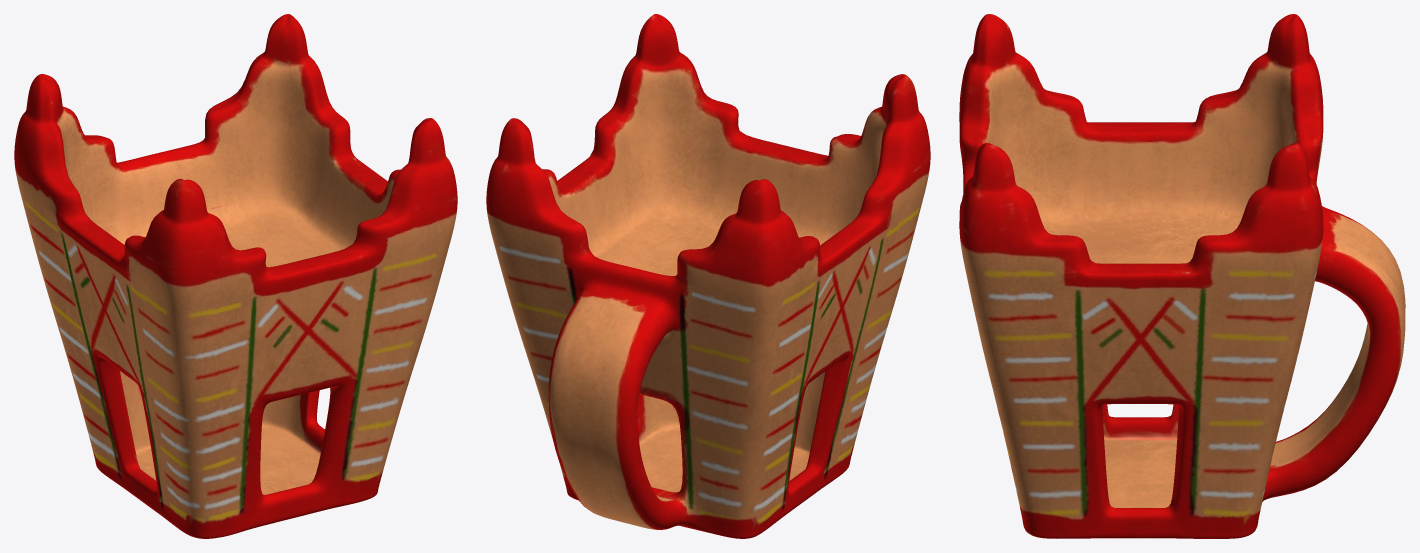
The model's file is majmar.glb.
3 views of the same model, side by side, from view 1: azimuth 30°, elevation 25°; view 2: azimuth 150°, elevation 25°; view 3: azimuth 270°, elevation 25° (orthographic). The views are drawn at different scales.
Parts seen in each view (by area): view 1: Cube; view 2: Cube; view 3: Cube.
Boxes of the visible parts, x1,y1,x2,y2 form: Cube: (14, 14, 457, 538); Cube: (486, 14, 930, 538); Cube: (959, 14, 1405, 538).
Bounding box in the file's own units: 273 × 341 × 335.
1 material, 1 textured.
